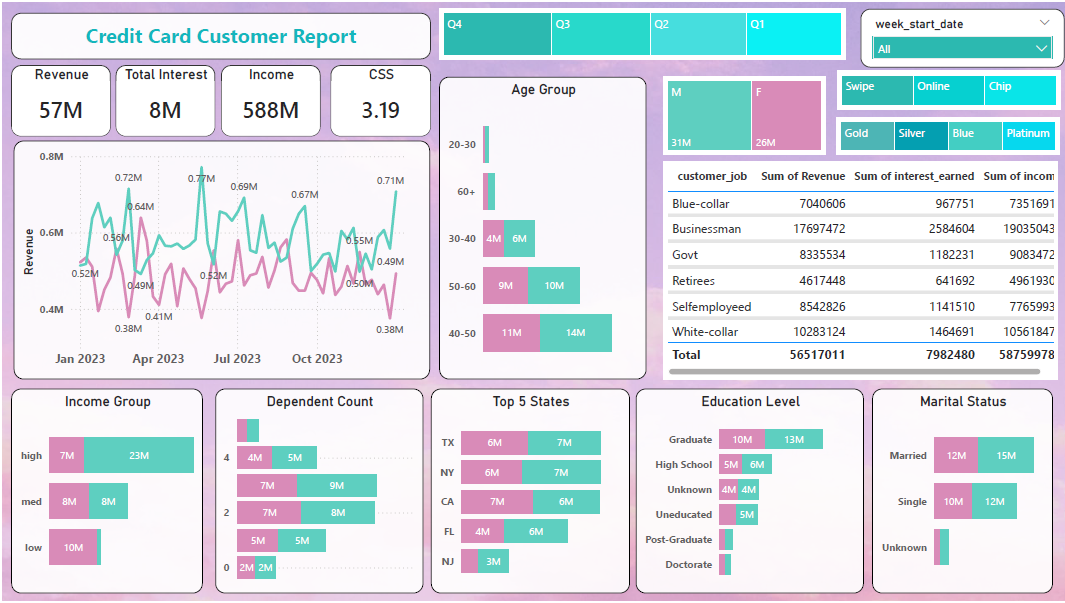

What the dashboard file says about the page in this screenshot:
{"tool":"powerbi","page":{"name":"CC Customer","canvas":[1280,720],"ordinal":2},"visuals":[{"type":"textbox","box":[10.1,11.5,505.4,56.2],"z":0},{"type":"tableEx","fields":{"Values":["public cust_detail.customer_job","Sum(public cc_detail.Revenue)","Sum(public cc_detail.interest_earned)","Sum(public cust_detail.income)"]},"box":[796,191,476,263],"z":1000},{"type":"cardVisual","title":"Revenue","fields":{"Data":["Sum(public cc_detail.Revenue)"]},"box":[10,75,120,86],"z":2000},{"type":"cardVisual","title":"Total Interest","fields":{"Data":["Sum(public cc_detail.interest_earned)"]},"box":[136,75,120,86],"z":3000},{"type":"cardVisual","title":"Income","fields":{"Data":["Sum(public cust_detail.income)"]},"box":[263,75,120,86],"z":4000},{"type":"cardVisual","title":"CSS","fields":{"Data":["Avg(public cust_detail.cust_satisfaction_score)"]},"box":[395,75,121,86],"z":5000},{"type":"slicer","fields":{"Values":["public cc_detail.week_start_date"]},"box":[1034.1,6.8,245.5,71.6],"z":6000},{"type":"treemap","fields":{"Group":["public cc_detail.qtr"],"Values":["Avg(public cc_detail.client_num)"]},"box":[526,7,490,61],"z":7000},{"type":"treemap","fields":{"Group":["public cc_detail.card_category"],"Values":["Avg(public cc_detail.client_num)"]},"box":[1005,138,269,45],"z":8000},{"type":"barChart","title":"Income Group","fields":{"Y":["Sum(public cc_detail.Revenue)"],"Category":["public cust_detail.IncomeGroup"],"Series":["public cust_detail.gender"]},"box":[10,465,231,247],"z":9000},{"type":"treemap","fields":{"Group":["public cust_detail.gender"],"Values":["Sum(public cc_detail.Revenue)"]},"box":[796,89,196,94],"z":10000},{"type":"barChart","title":" Age Group ","fields":{"Y":["Sum(public cc_detail.Revenue)"],"Category":["public cust_detail.AgeGroup"],"Series":["public cust_detail.gender"]},"box":[526,89,250,365],"z":11000},{"type":"barChart","title":" Dependent Count ","fields":{"Y":["Sum(public cc_detail.Revenue)"],"Category":["public cust_detail.dependent_count"],"Series":["public cust_detail.gender"]},"box":[256,465,251,247],"z":12000},{"type":"barChart","title":" Education Level ","fields":{"Y":["Sum(public cc_detail.Revenue)"],"Category":["public cust_detail.education_level"],"Series":["public cust_detail.gender"]},"box":[763,465,275,247],"z":13000},{"type":"barChart","title":"Top 5 States","fields":{"Y":["Sum(public cc_detail.Revenue)"],"Category":["public cust_detail.state_cd"],"Series":["public cust_detail.gender"]},"box":[516,465,240,247],"z":14000},{"type":"barChart","title":" Marital Status ","fields":{"Y":["Sum(public cc_detail.Revenue)"],"Category":["public cust_detail.marital_status"],"Series":["public cust_detail.gender"]},"box":[1048,465,218,247],"z":15000},{"type":"treemap","fields":{"Values":["Avg(public cc_detail.client_num)"],"Group":["public cc_detail.use_chip"]},"box":[1006,82,269,47],"z":16000},{"type":"lineChart","title":"Revenue vs Gender","fields":{"Series":["public cust_detail.gender"],"Category":["public cc_detail.week_start_date.Variation.Date Hierarchy.Year","public cc_detail.week_start_date.Variation.Date Hierarchy.Month","public cc_detail.week_start_date.Variation.Date Hierarchy.Day"],"Y":["Sum(public cc_detail.Revenue)"]},"box":[13,166,502,288],"z":17000}]}

Visuals, with their boxes in screenshot pixels (x1, y1, x2, y2), scaled from the page's 1280x720 canvas onto the 1065x603 screenshot:
textbox: 8,10,429,57
tableEx - public cust_detail.customer_job x Sum(public cc_detail.Revenue): 662,160,1058,380
"Revenue" cardVisual: 8,63,108,135
"Total Interest" cardVisual: 113,63,213,135
"Income" cardVisual: 219,63,319,135
"CSS" cardVisual: 329,63,429,135
slicer - public cc_detail.week_start_date: 860,6,1064,66
treemap - public cc_detail.qtr x Avg(public cc_detail.client_num): 438,6,845,57
treemap - public cc_detail.card_category x Avg(public cc_detail.client_num): 836,116,1060,153
"Income Group" barChart: 8,389,201,596
treemap - public cust_detail.gender x Sum(public cc_detail.Revenue): 662,75,825,153
" Age Group " barChart: 438,75,646,380
" Dependent Count " barChart: 213,389,422,596
" Education Level " barChart: 635,389,864,596
"Top 5 States" barChart: 429,389,629,596
" Marital Status " barChart: 872,389,1053,596
treemap - Avg(public cc_detail.client_num) x public cc_detail.use_chip: 837,69,1061,108
"Revenue vs Gender" lineChart: 11,139,428,380
